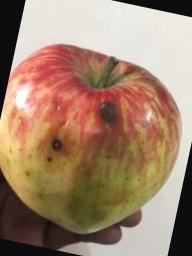Apple Unripe: (0, 33, 192, 252)
